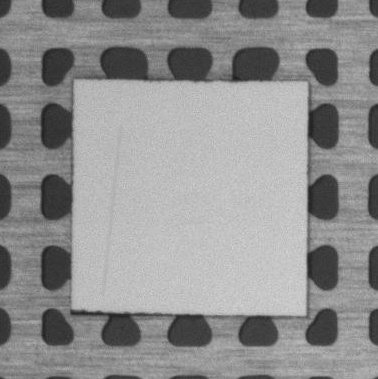DIE_CRACK: (103, 125, 121, 296)
